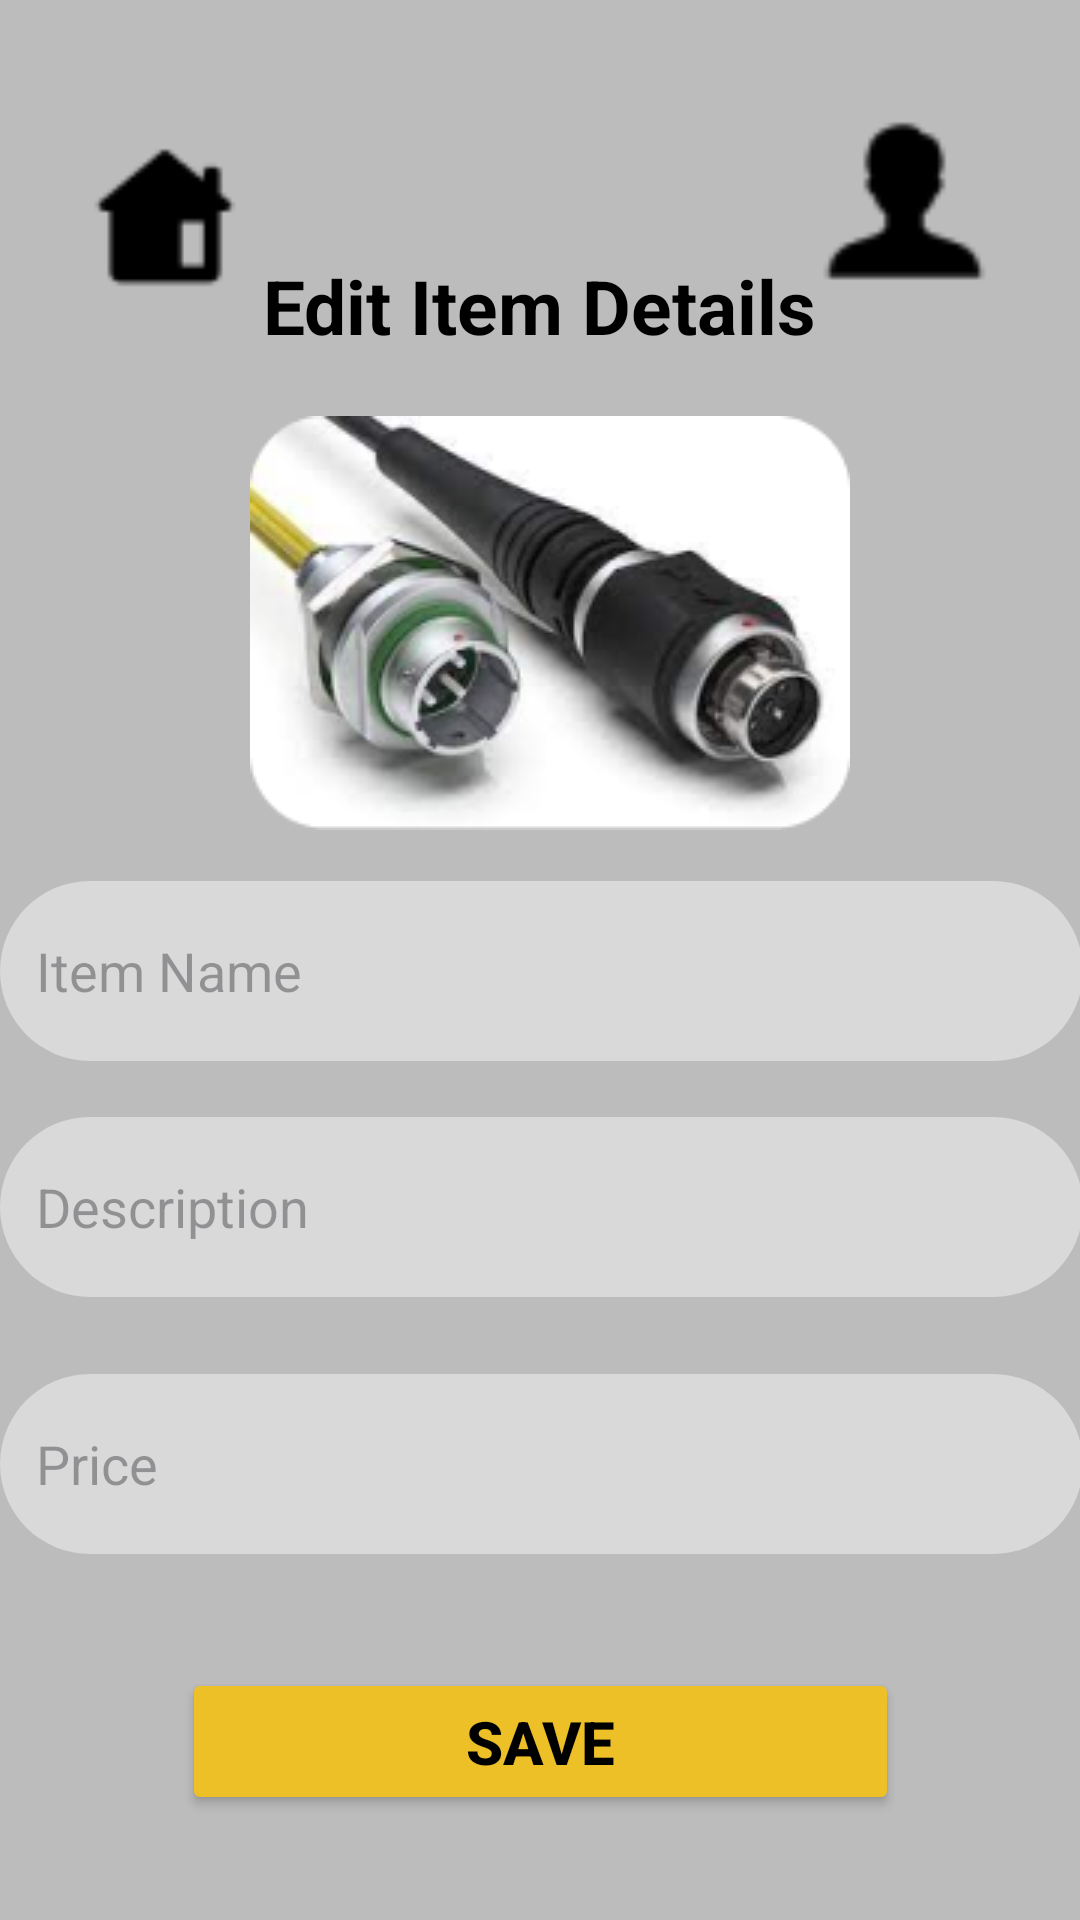

Point at icon controls on the screen. Image size 1080 x 1920, points as [x,y].
home: [165,217]
user male: [904,201]
